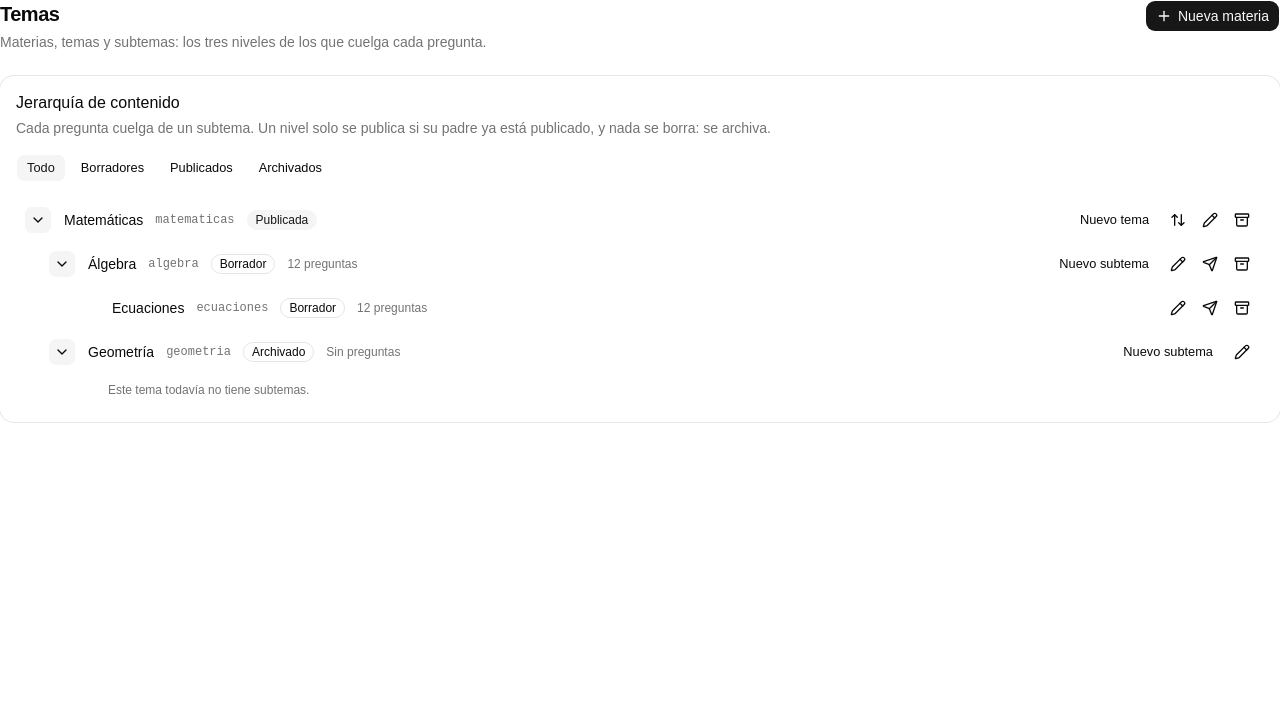
gestión de temas y subtemas › rechaza en el formulario lo que el servidor rechazaría, sin gastar la petición
Click the button "Nuevo tema". click: x=1114, y=220
box: [1069,206,1160,234]
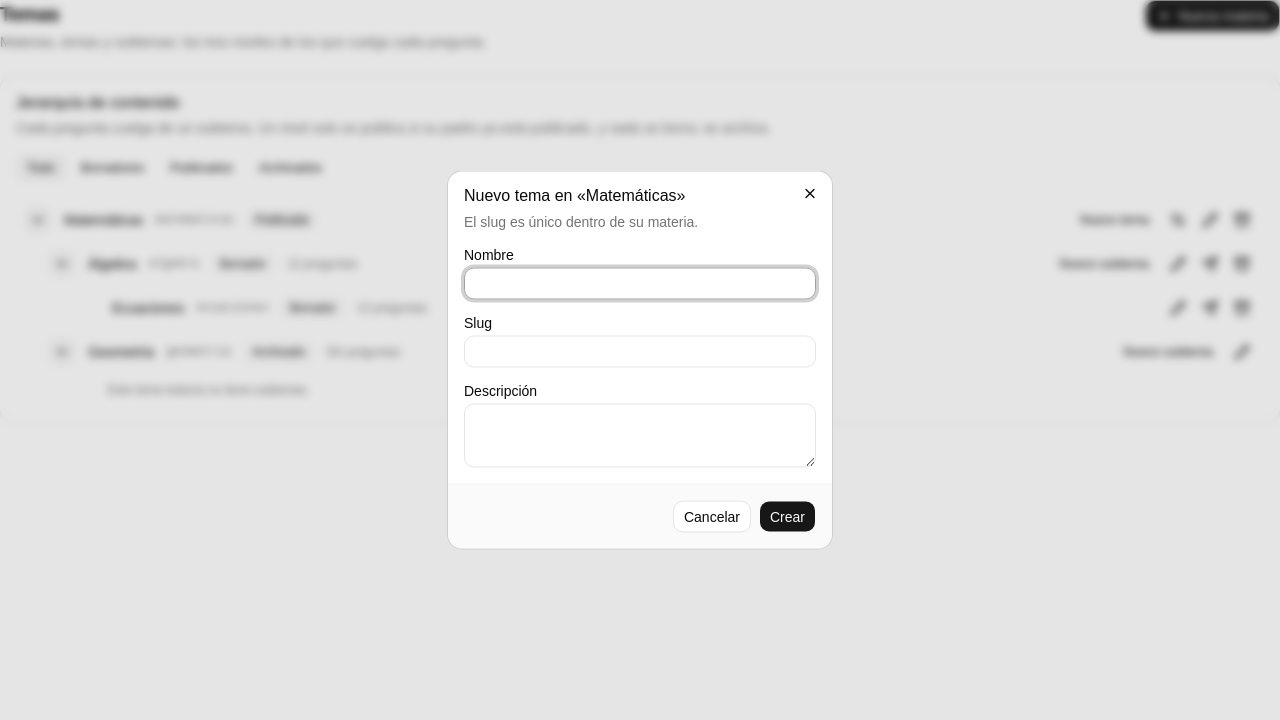
Type "Álgebra lineal" into the field labelled "Nombre". click: x=640, y=284
box: [464,268,816,300]
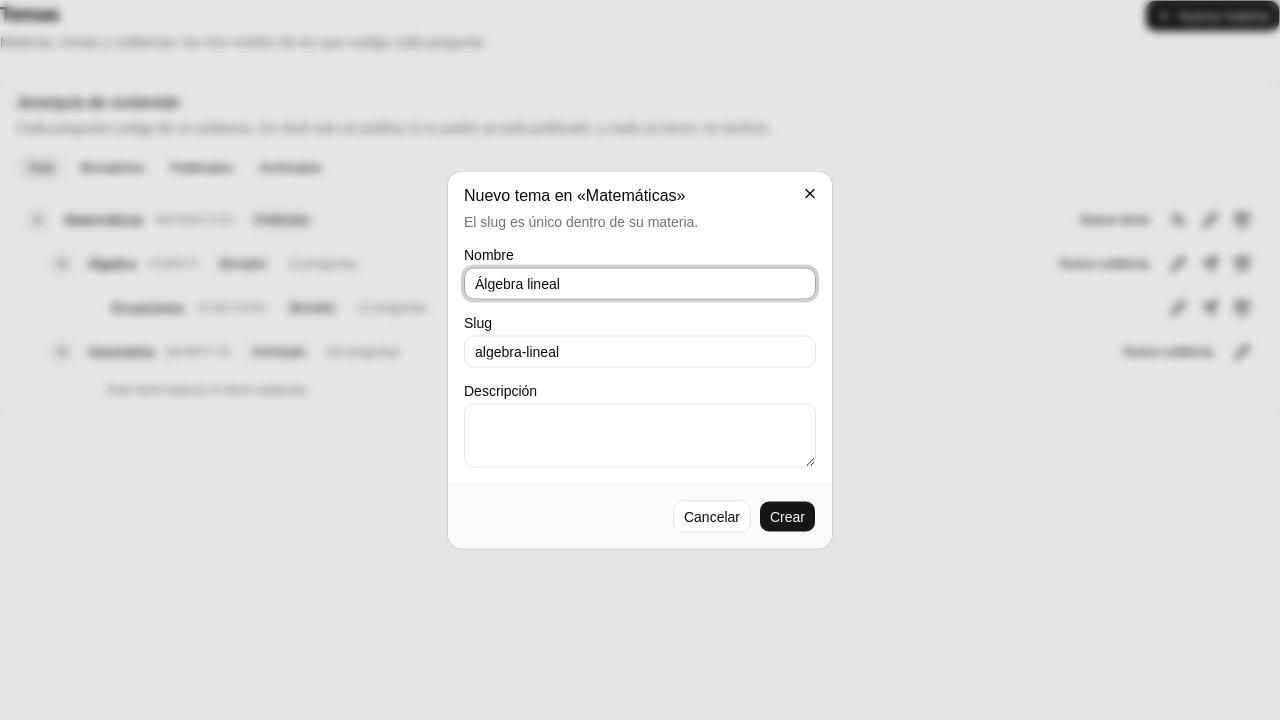
Replace the text in the field labelled "Slug" with "Con Espacios". click: x=640, y=352
box: [464,336,816,368]
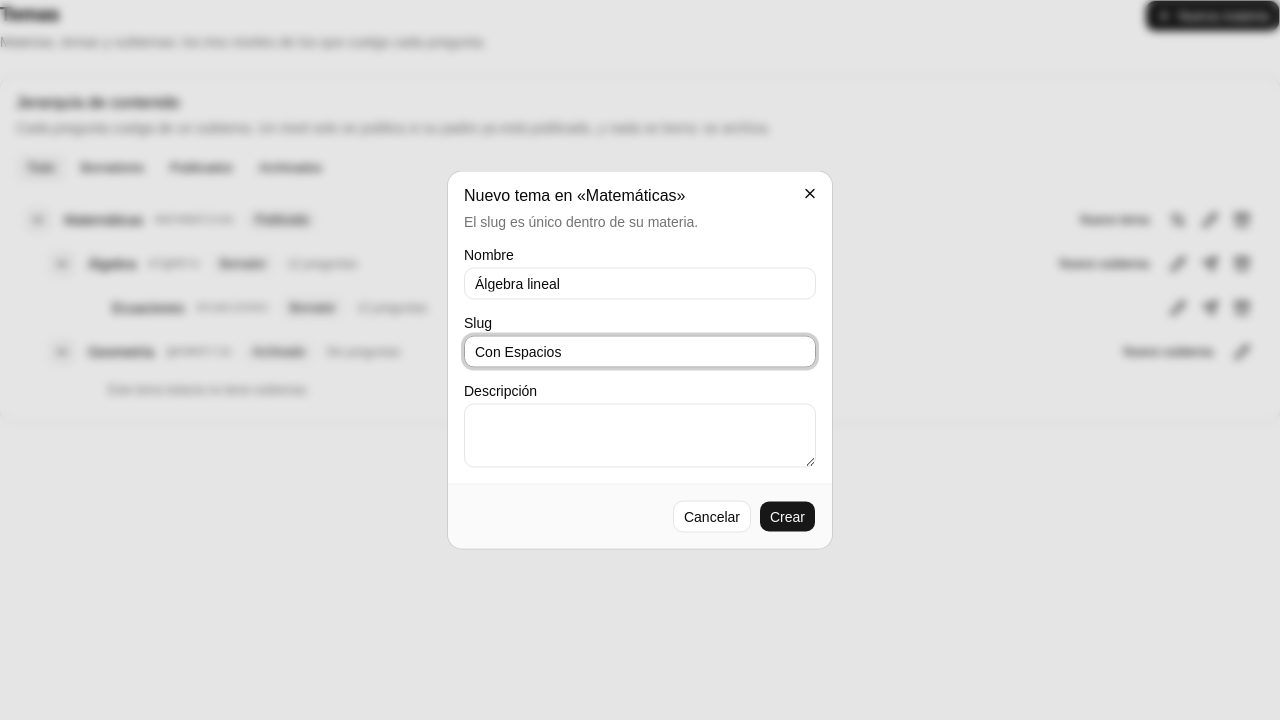
Click the button "Crear". click: x=788, y=516
box: [759,500,816,532]
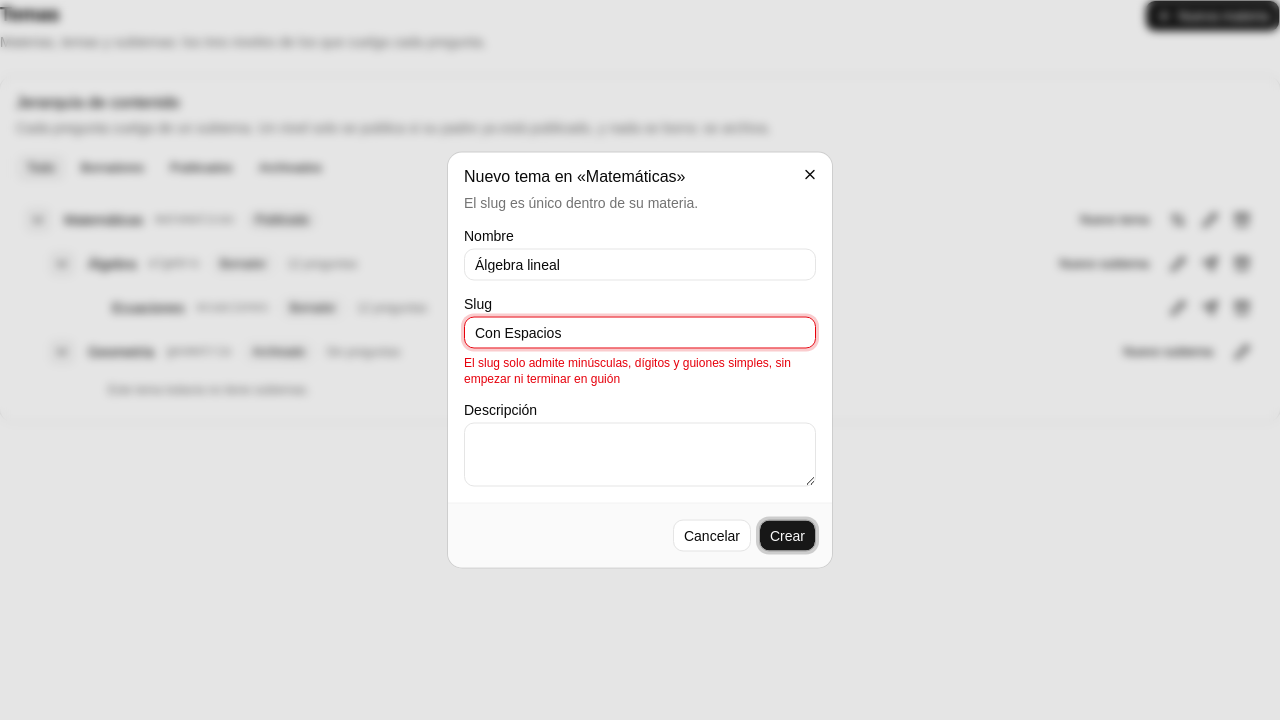
Check: the text "El slug solo admite minúsculas, dígitos y guiones simples, sin empezar ni terminar en guión" is shown, box [464,356,791,386]
